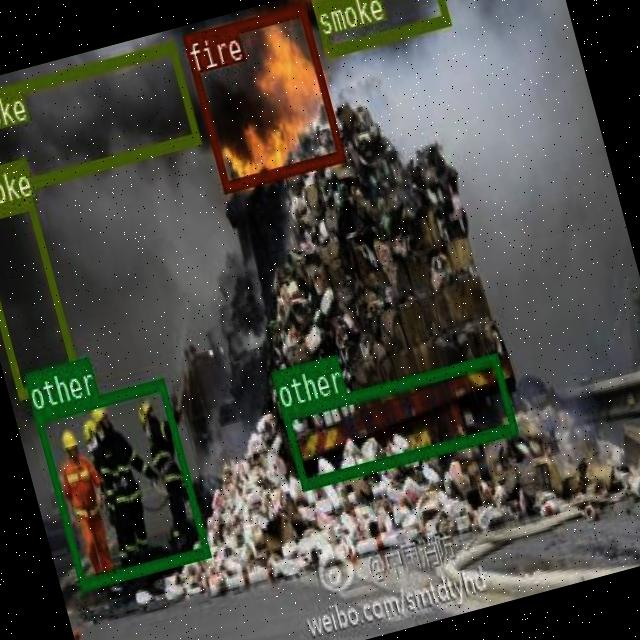fire: (181, 2, 345, 192)
smoke: (0, 39, 198, 199), (0, 197, 79, 397), (310, 0, 449, 54)
